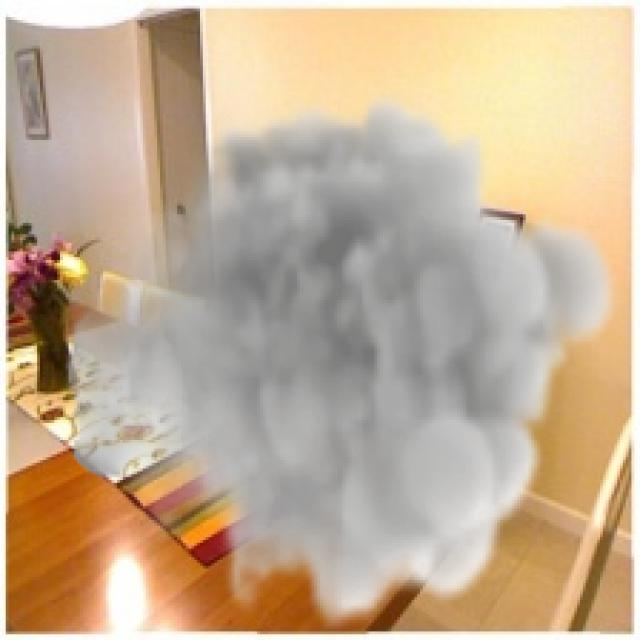smoke: (63, 91, 623, 632)
